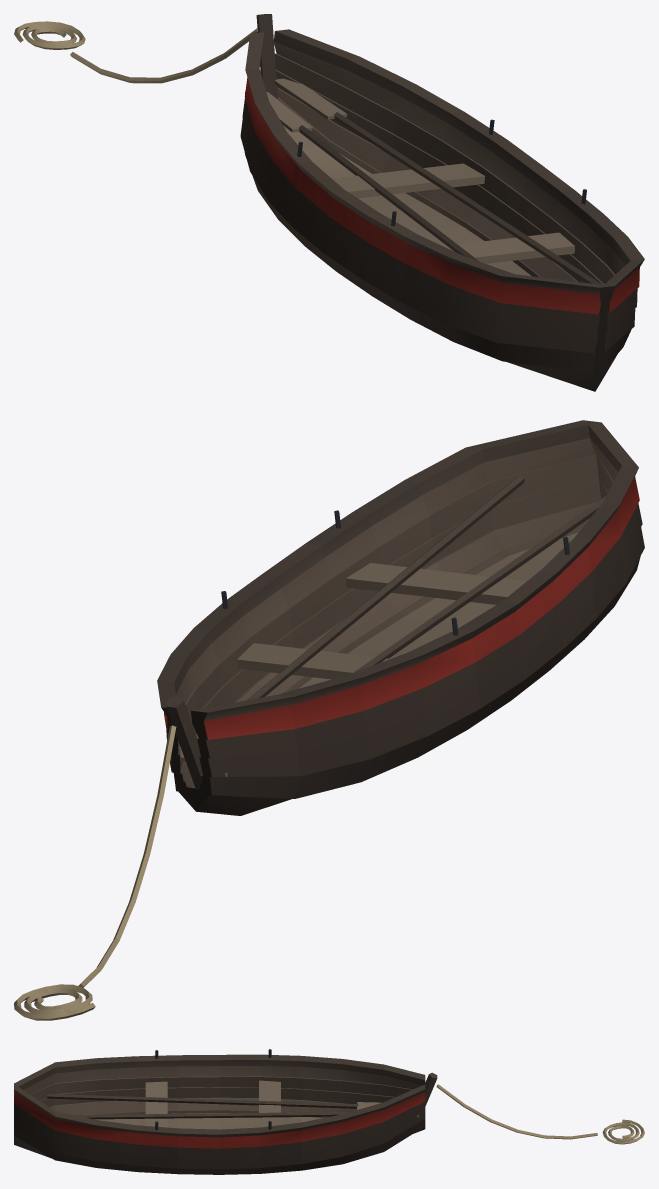
The model's file is rowing_boat_b.glb.
3 renders of one model, top to bottom at view 1: azimuth 30°, elevation 25°; view 2: azimuth 150°, elevation 25°; view 3: azimuth 270°, elevation 25°, orthographic. The views are drawn at different scales.
Visible parts, largest first — view 1: isl_rowing_boat_b; view 2: isl_rowing_boat_b; view 3: isl_rowing_boat_b.
Boxes of the visible parts, <box> form: isl_rowing_boat_b: <box>14,14,644,391</box>; isl_rowing_boat_b: <box>14,420,644,1020</box>; isl_rowing_boat_b: <box>14,1049,644,1174</box>.
Size of the model in its own units: 1.53 by 0.9073 by 6.31.
